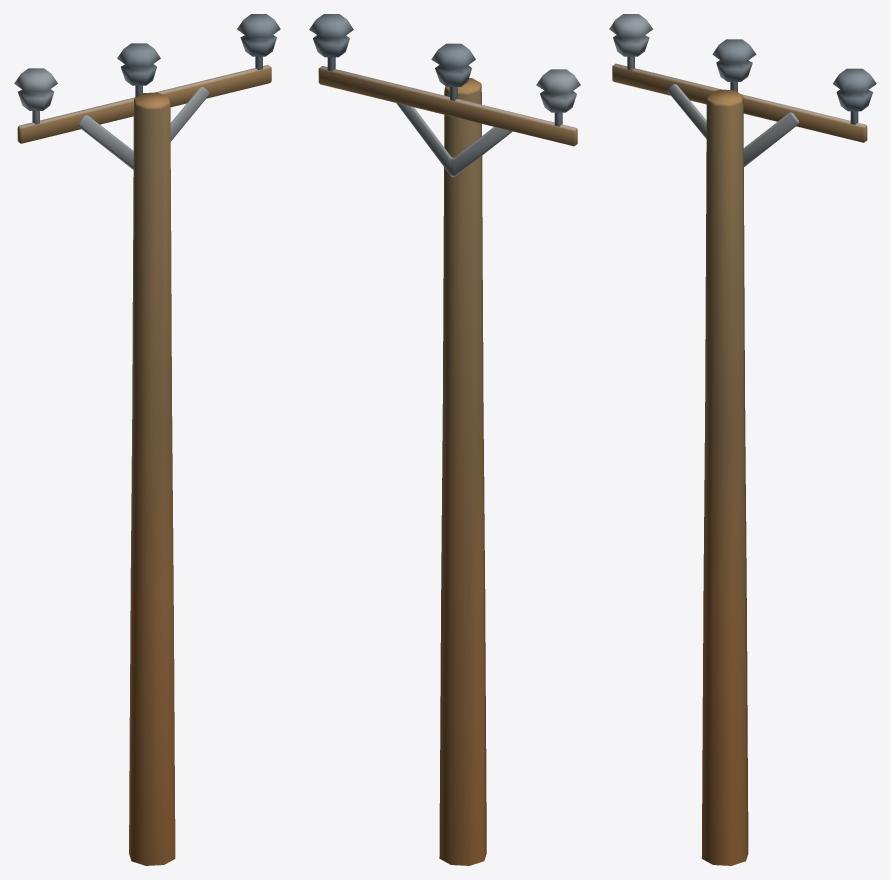
The model's file is TelegraphPole02.glb.
The picture shows the model from 3 angles, left to right: view 1: azimuth 30°, elevation 25°; view 2: azimuth 150°, elevation 25°; view 3: azimuth 330°, elevation 25°; orthographic projection.
Visible parts, largest first — view 1: TelegraphPole02; view 2: TelegraphPole02; view 3: TelegraphPole02.
Boxes of the visible parts, x1,y1,x2,y2 form: TelegraphPole02: (14, 14, 280, 865); TelegraphPole02: (309, 14, 580, 865); TelegraphPole02: (609, 14, 876, 865).
Bounding box in the file's own units: 2.29 × 6.8 × 0.5117.
